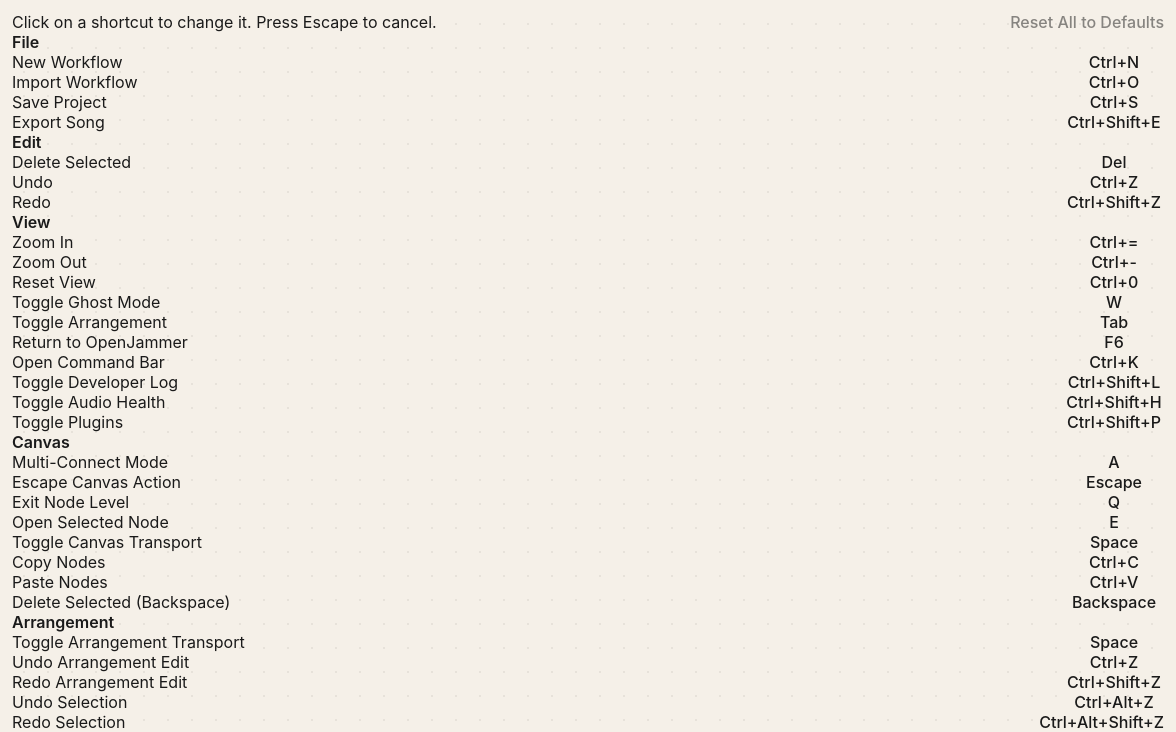
Test: KeybindingsPanel › conflict handling › should show conflict dialog when assigning duplicate shortcut
This screenshot has width=1176, height=732.
Click the button "Del" at point(1114, 162), box [1064,152,1164,172]
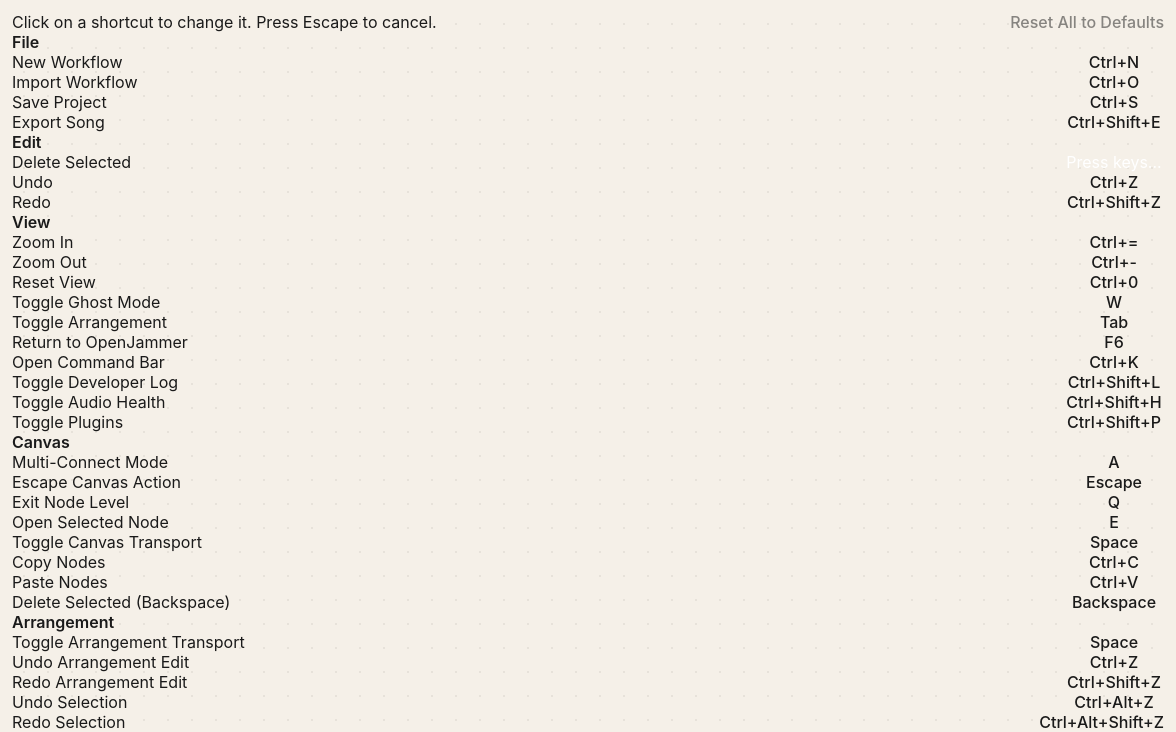
Press z
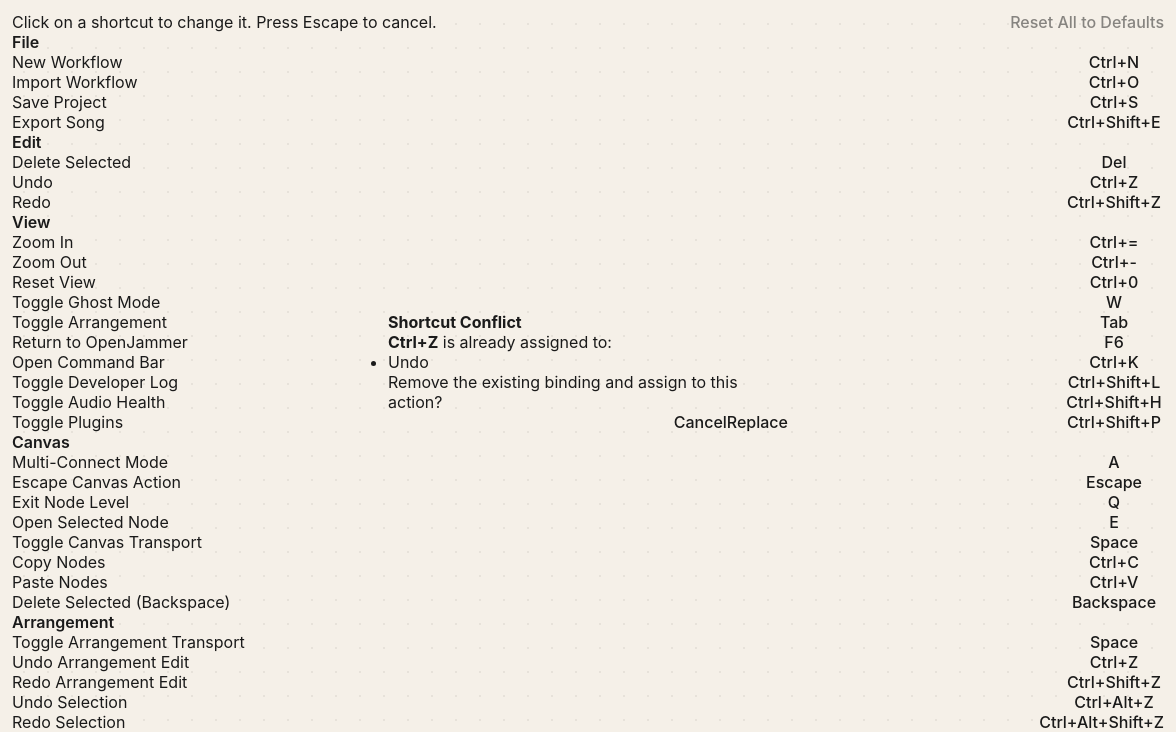
Expected: the heading "Shortcut Conflict" is shown, [388,312,522,332]
Expected: the list reads "Undo", [388,352,429,372]
